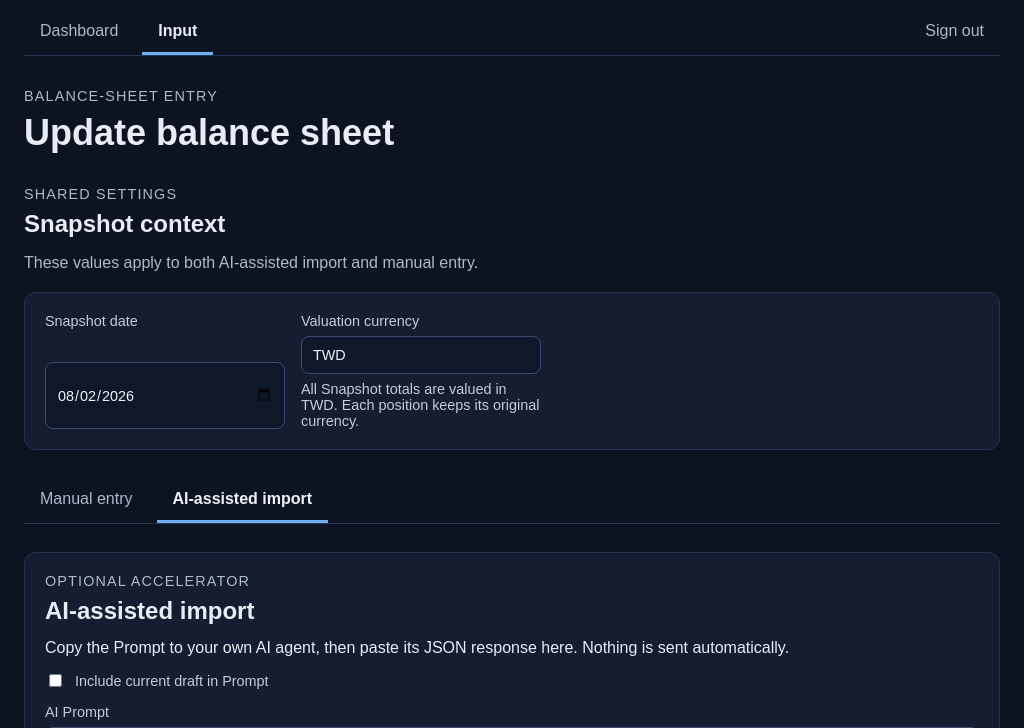
Test: Balance-sheet entry › offers ISO currency autocomplete while preserving manual entry
Click the tab "Manual entry" at coordinates (86, 500), box [24,478,148,523]
(page scrolled)
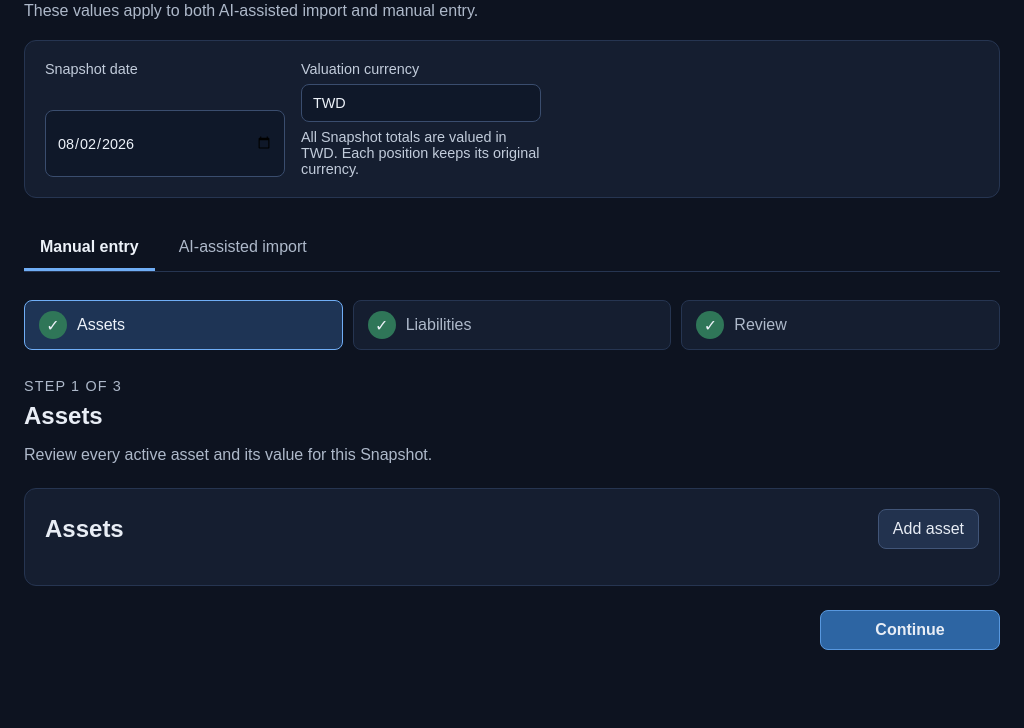
Click the button "Add asset" at coordinates (928, 529), box [878,509,979,549]
(page scrolled)
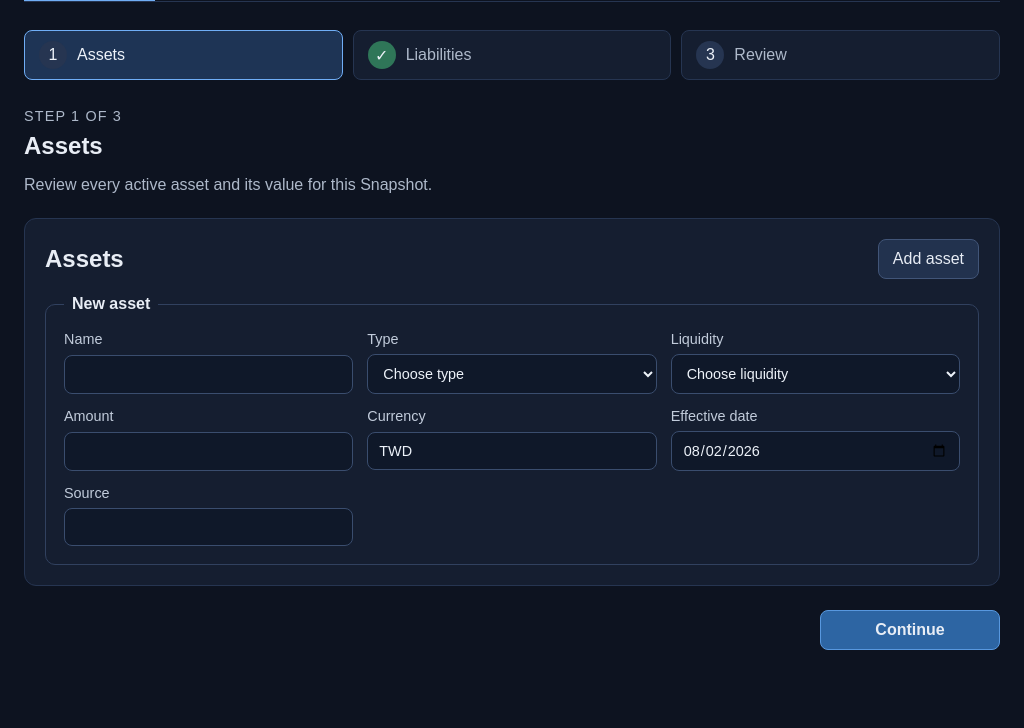
Replace the text in the dropdown labelled "Currency" with "us dollar" at coordinates (512, 451), box [367,432,657,470]
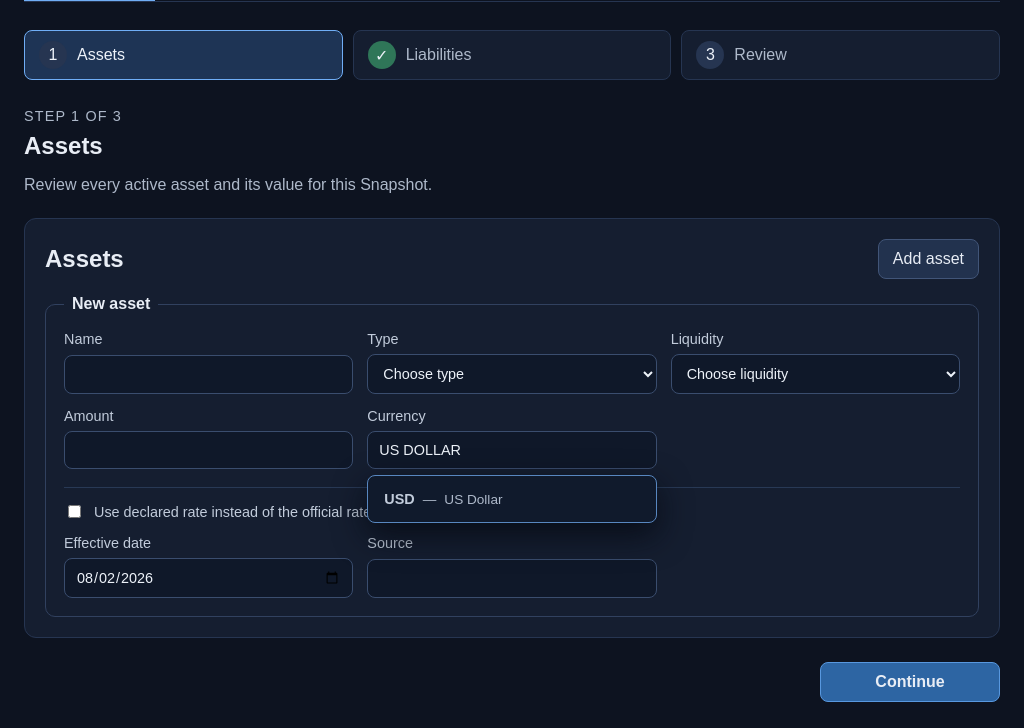
Press the mouse on the option "USD — US Dollar" at coordinates (400, 499), box [374,482,650,516]
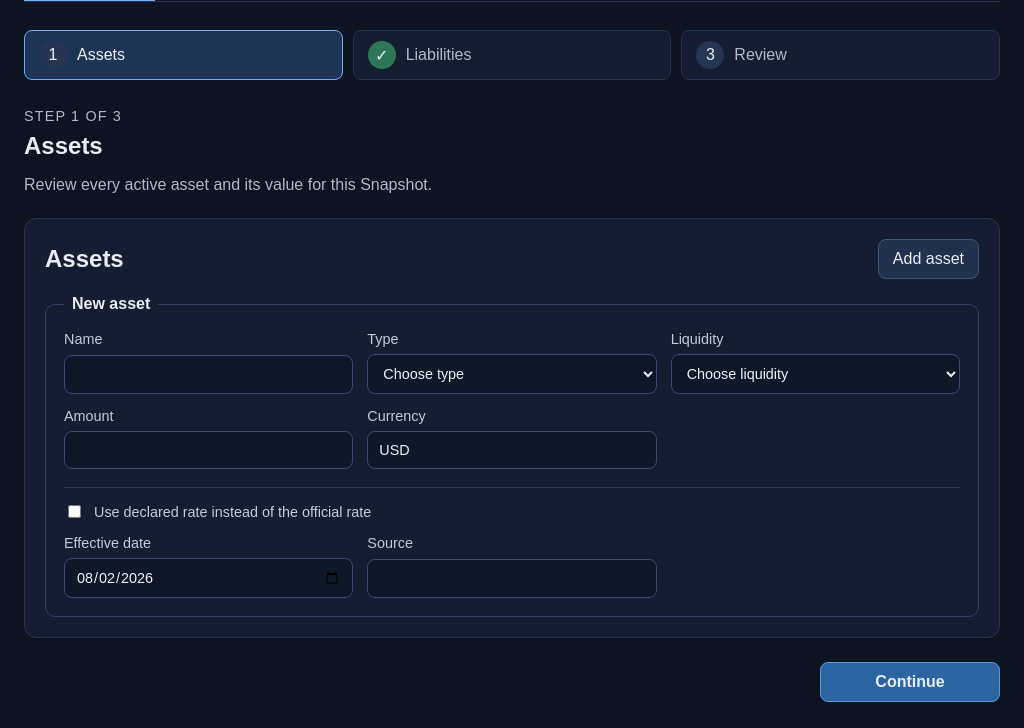
Check: the dropdown labelled "Currency" holds "USD", box [367,431,657,469]
